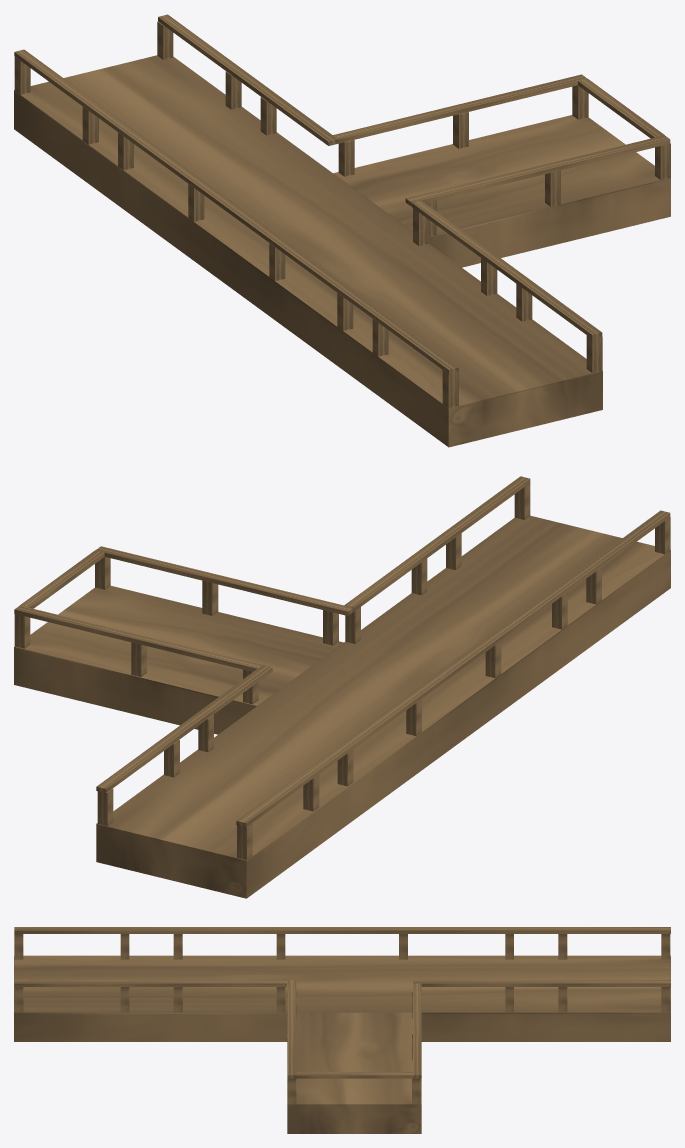
Rendered from bridge_1.fbx.
The picture shows the model from 3 angles, top to bottom: view 1: azimuth 30°, elevation 25°; view 2: azimuth 150°, elevation 25°; view 3: azimuth 270°, elevation 25°; orthographic projection. The views are drawn at different scales.
Parts seen in each view (by area): view 1: polySurface2; view 2: polySurface2; view 3: polySurface2.
Boxes of the visible parts, bbox=[...] form: polySurface2: bbox=[14, 14, 670, 447]; polySurface2: bbox=[14, 476, 670, 898]; polySurface2: bbox=[14, 927, 670, 1133].
Size of the model in its own units: 33.27 by 6.09 by 62.14.
